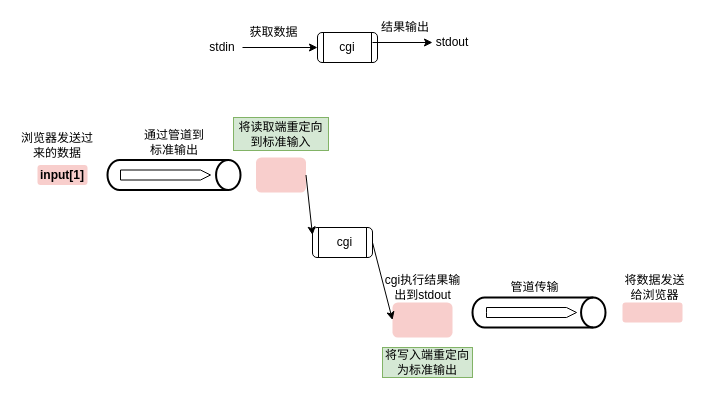
Image size: 704x395. Some labels were removed from this diagram. The centre of each missing label's shape, as x and y in pixels:
"input[0] stdin" goes at pixel 281 174.
"output[0]" goes at pixel 652 312.
"output[1] stdout" goes at pixel 422 319.
